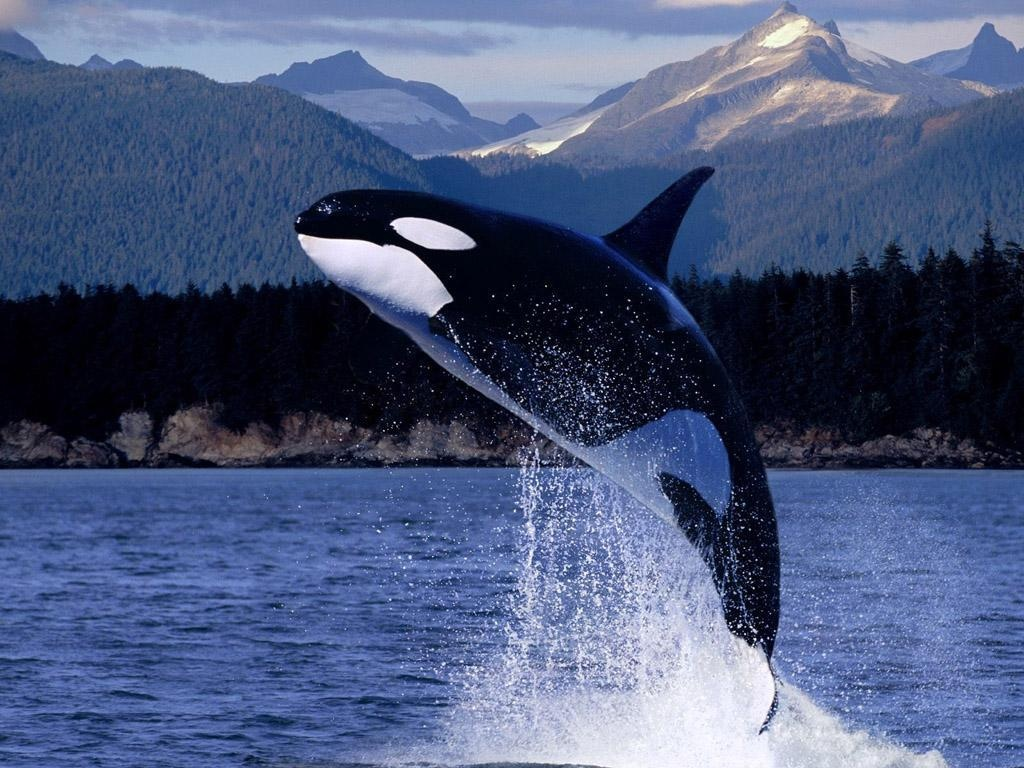fish: (288, 158, 795, 724)
